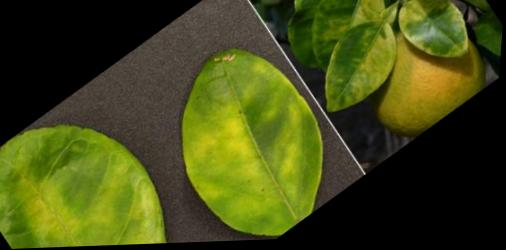Citrus Greening: (132, 21, 373, 246), (0, 77, 238, 250)
